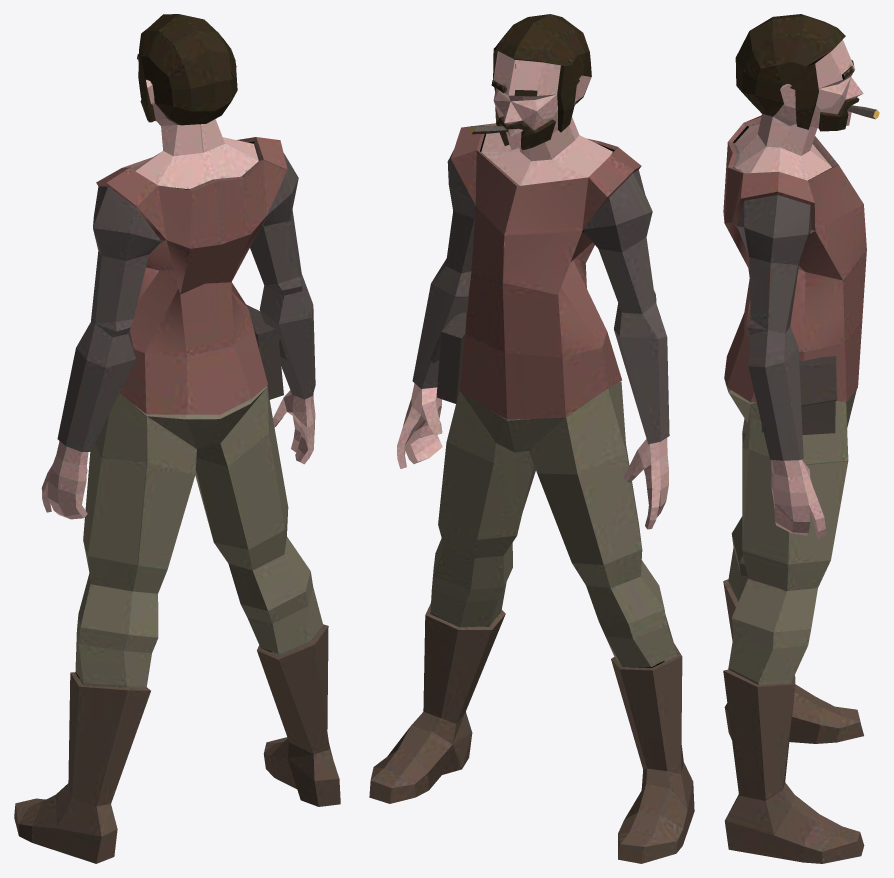
File: inf_civ_2.glb
3 renders of one model, left to right at view 1: azimuth 30°, elevation 25°; view 2: azimuth 150°, elevation 25°; view 3: azimuth 270°, elevation 25°, orthographic. The views are drawn at different scales.
Parts seen in each view (by area): view 1: inf_civ_2; view 2: inf_civ_2; view 3: inf_civ_2.
Boxes of the visible parts, left/top/right/bottom form: inf_civ_2: left=14, top=14, right=340, bottom=863; inf_civ_2: left=369, top=14, right=694, bottom=863; inf_civ_2: left=723, top=14, right=879, bottom=863.
Bounding box in the file's own units: 0.7095 × 1.76 × 0.3218.
1 material, 1 textured.
